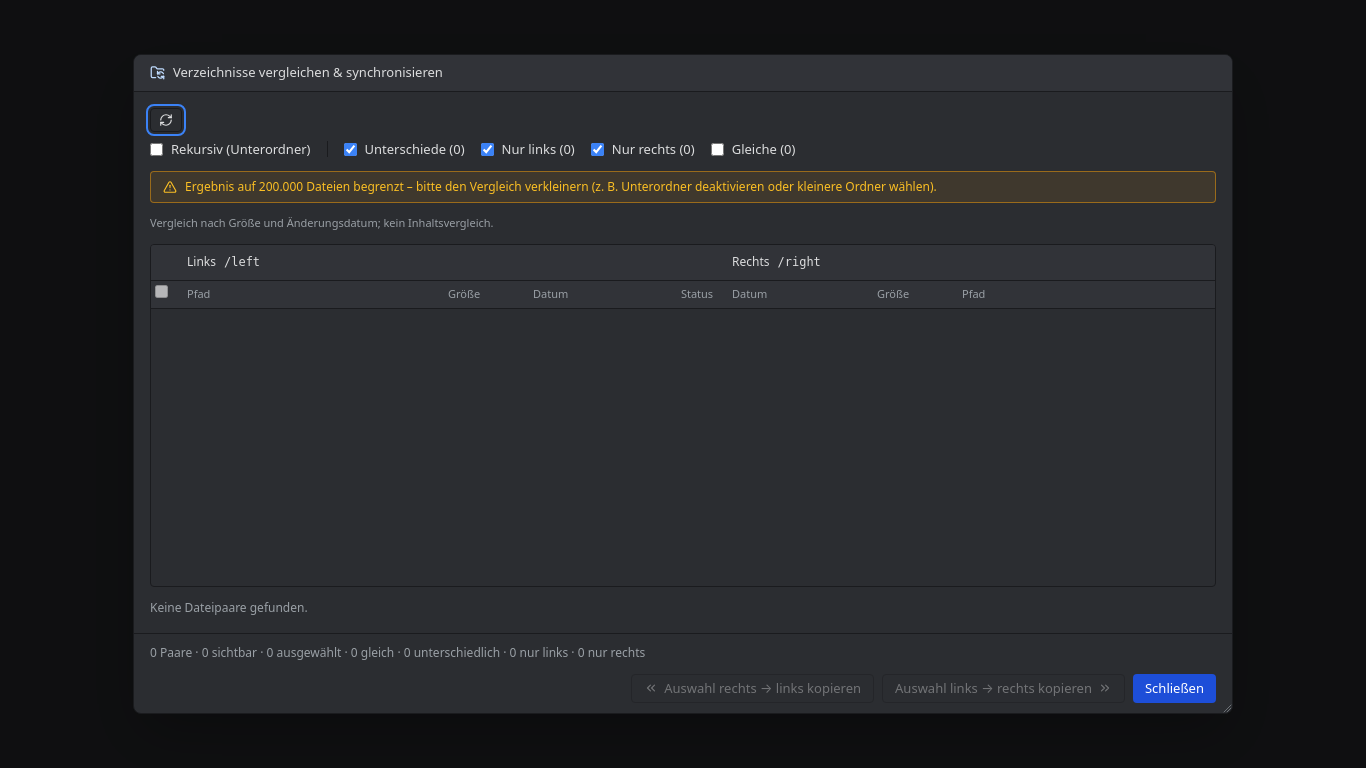
Test case: shows limit and empty/error outcomes explicitly
Expected: the text "Ergebnis auf 200.000 Dateien begrenzt – bitte den Vergleich verkleinern (z. B. Unterordner deaktivieren oder kleinere Or" is shown, [185,178,937,195]
Expected: the message reads "Keine Dateipaare gefunden.", [150,598,308,616]
What coordinates should you click on to do the following:
click the button named "Neu vergleichen"
I would click on:
 (166, 120)
Its box is [150,108,182,132].
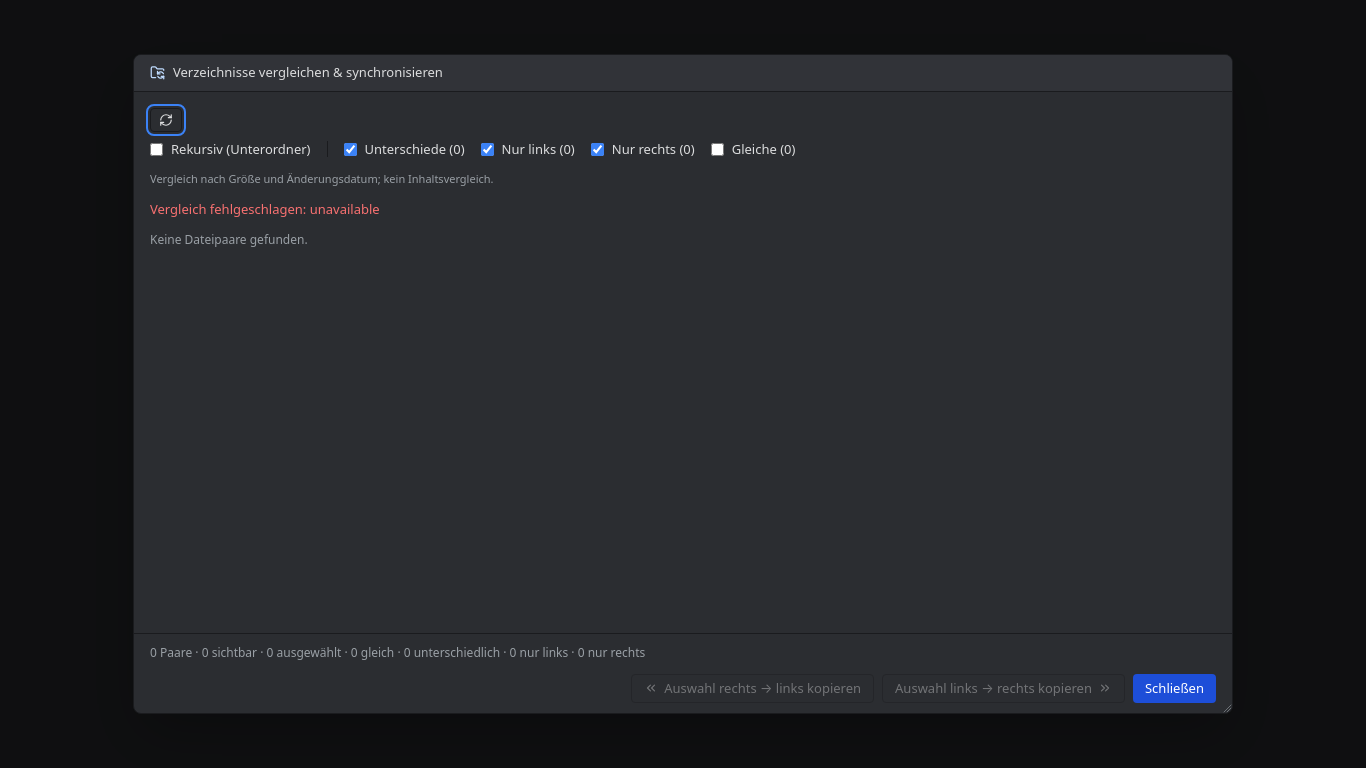
Expected: the message "Vergleich fehlgeschlagen: unavailable" is shown, [150,200,380,218]
